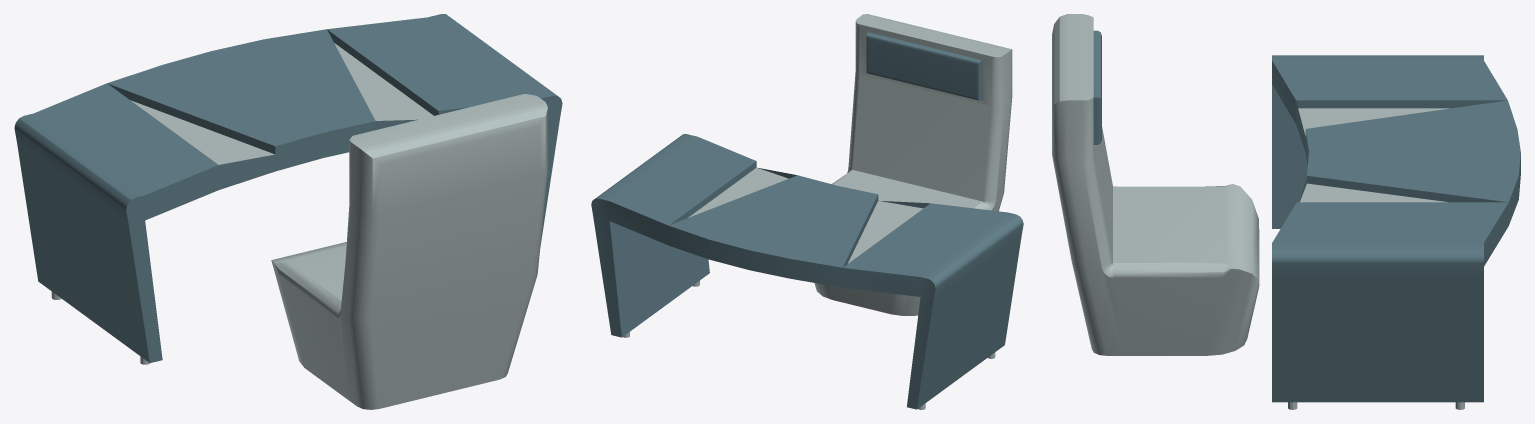
Rendered from office_table_chair.fbx.
3 renders of one model, left to right at view 1: azimuth 30°, elevation 25°; view 2: azimuth 150°, elevation 25°; view 3: azimuth 270°, elevation 25°, orthographic. The views are drawn at different scales.
Visible parts, largest first — view 1: table, pCube1; view 2: table, pCube1; view 3: table, pCube1.
Part boxes in pixels (bbox=[...]): table: bbox=[14, 14, 562, 364]; pCube1: bbox=[271, 94, 547, 409]; table: bbox=[591, 134, 1023, 409]; pCube1: bbox=[814, 14, 1012, 315]; table: bbox=[1272, 55, 1520, 409]; pCube1: bbox=[1052, 14, 1259, 355].
Bounding box in the file's own units: 0.1809 × 0.1104 × 0.1774.
